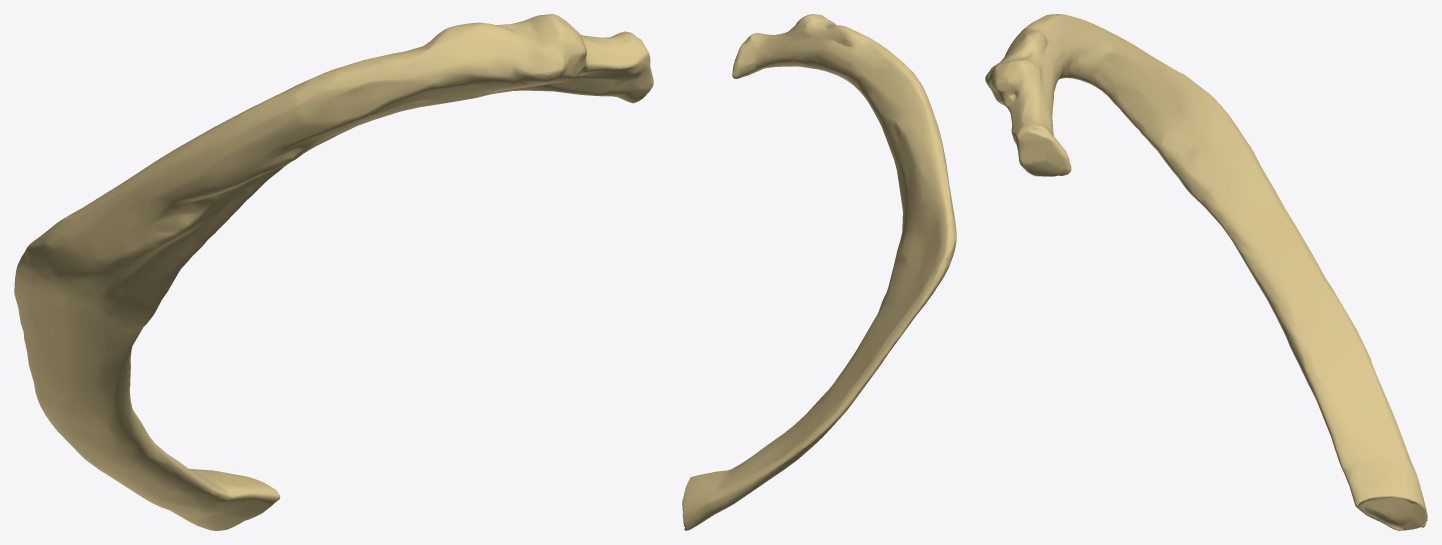
3 renders of one model, left to right at view 1: azimuth 30°, elevation 25°; view 2: azimuth 150°, elevation 25°; view 3: azimuth 270°, elevation 25°, orthographic. The views are drawn at different scales.
Visible parts, largest first — view 1: 右侧第二肋; view 2: 右侧第二肋; view 3: 右侧第二肋.
Part boxes in pixels (x1=…): 右侧第二肋: x1=14, y1=14, x2=653, y2=530; 右侧第二肋: x1=682, y1=14, x2=956, y2=530; 右侧第二肋: x1=985, y1=14, x2=1427, y2=530.
Bounding box in the file's own units: 0.121 × 0.165 × 0.1345.
